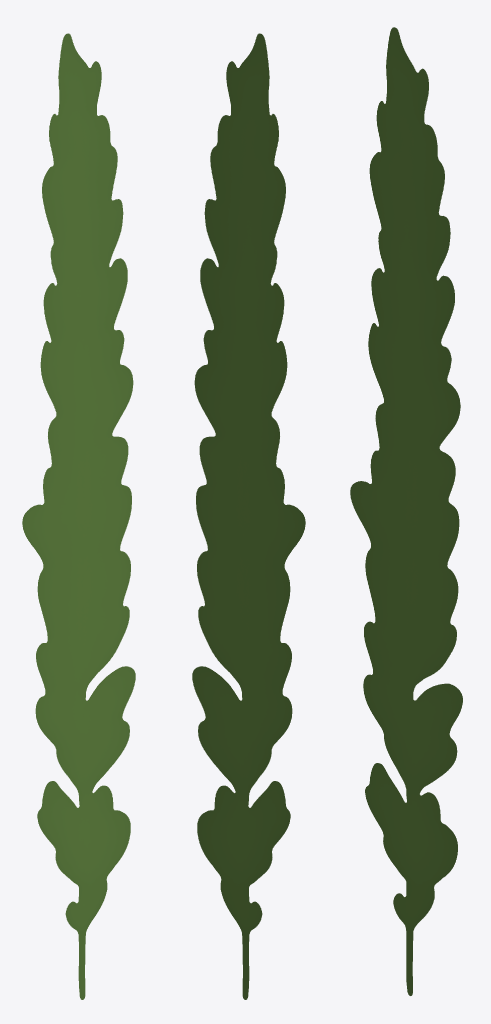
Rendered from Kelp_Test_01.fbx.
The picture shows the model from 3 angles, left to right: view 1: azimuth 30°, elevation 25°; view 2: azimuth 150°, elevation 25°; view 3: azimuth 330°, elevation 25°; orthographic projection.
Visible parts, largest first — view 1: polySurface2; view 2: polySurface2; view 3: polySurface2.
Part boxes in pixels (x1=…): polySurface2: x1=22, y1=33, x2=135, y2=999; polySurface2: x1=192, y1=33, x2=305, y2=999; polySurface2: x1=350, y1=27, x2=462, y2=995.
Bounding box in the file's own units: 1.93 × 13.57 × 5.2e-15.
